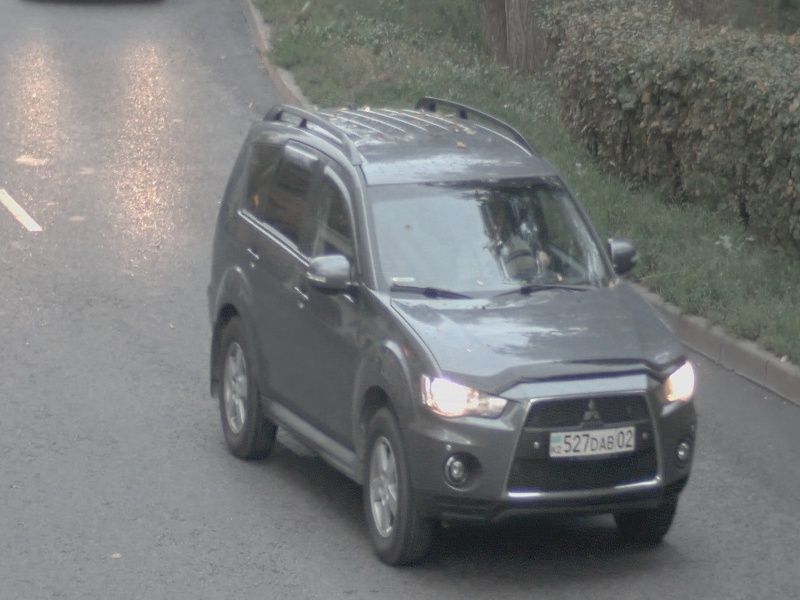plate: (549, 425, 636, 458)
